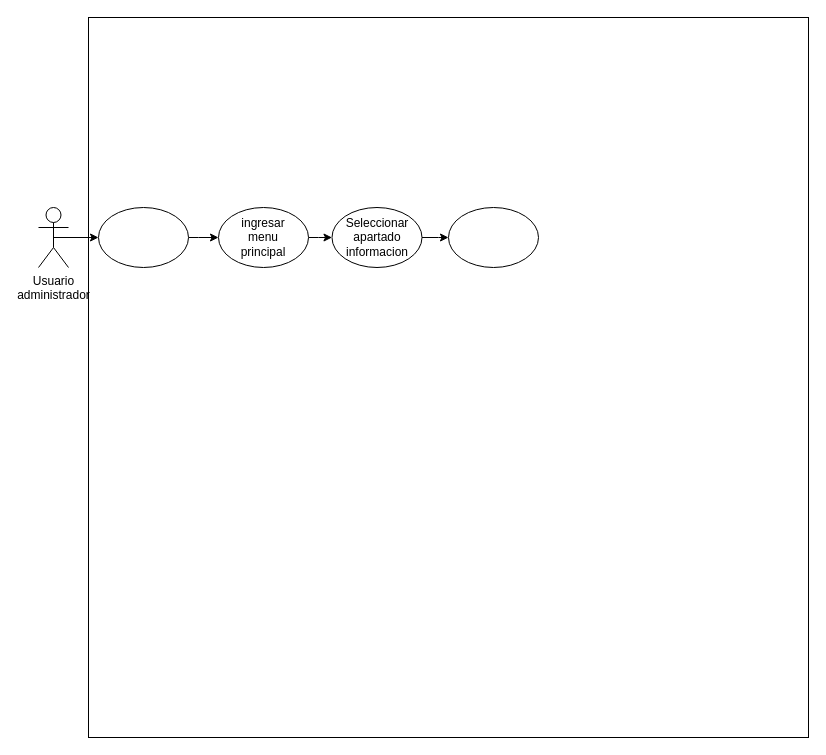
This 826x755 diagram has some shape labels left out. The shapes that lost their labels are listed below. From the top down, each one's centre as x and y in pixels, then its label:
point 143,237: Iniciar sesión
point 493,237: Seleccionar historial errores
